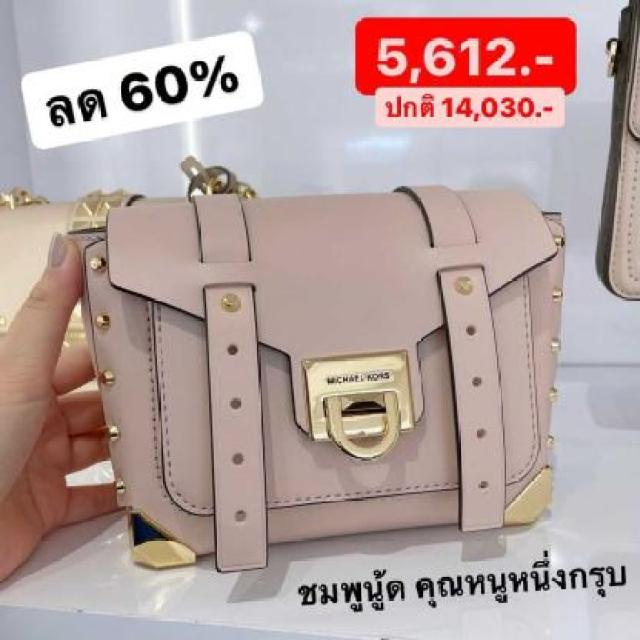Bag: (18, 157, 640, 558)
